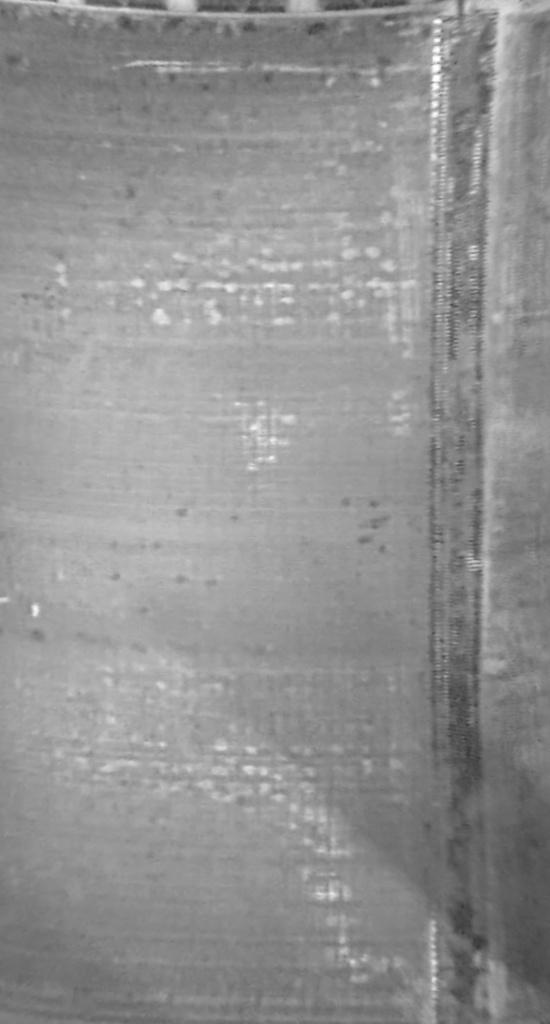splice: (416, 1, 513, 1022)
